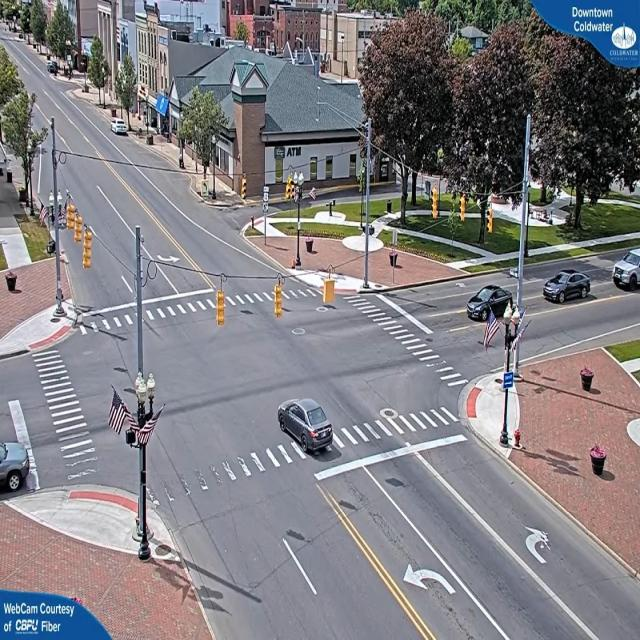car: (278, 401, 338, 458), (0, 412, 33, 496), (466, 282, 521, 327), (544, 268, 594, 303), (612, 249, 640, 291), (112, 121, 130, 138)
